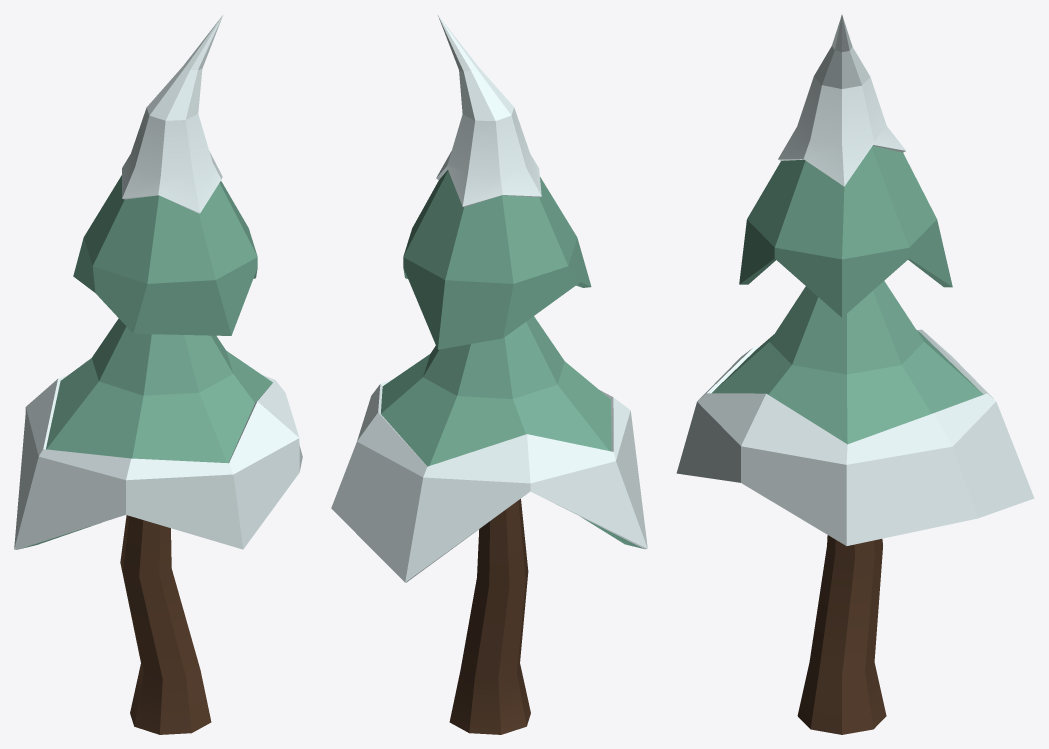
Rendered from Tree.fbx.
3 renders of one model, left to right at view 1: azimuth 30°, elevation 25°; view 2: azimuth 150°, elevation 25°; view 3: azimuth 270°, elevation 25°, orthographic. The views are drawn at different scales.
Parts seen in each view (by area): view 1: pCylinder4; view 2: pCylinder4; view 3: pCylinder4.
Boxes of the visible parts, bbox=[...] form: pCylinder4: bbox=[14, 15, 302, 734]; pCylinder4: bbox=[331, 15, 647, 734]; pCylinder4: bbox=[676, 14, 1034, 734].
Bounding box in the file's own units: 10.22 × 23.15 × 10.3.
